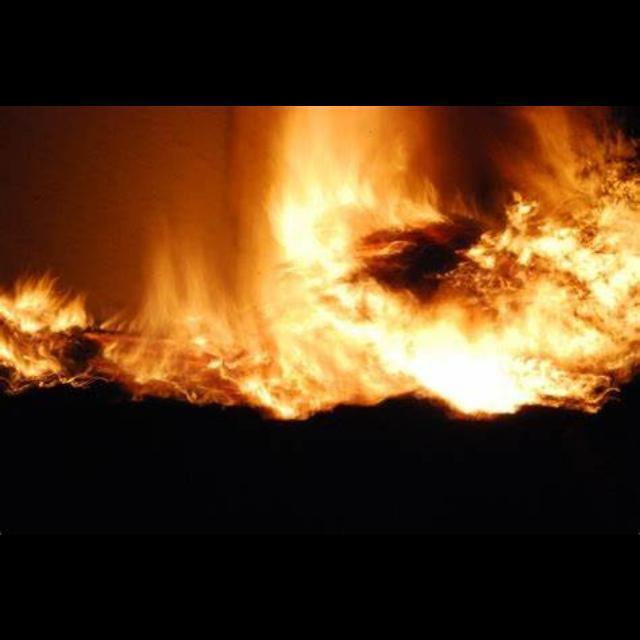Fire: (2, 107, 640, 421)
